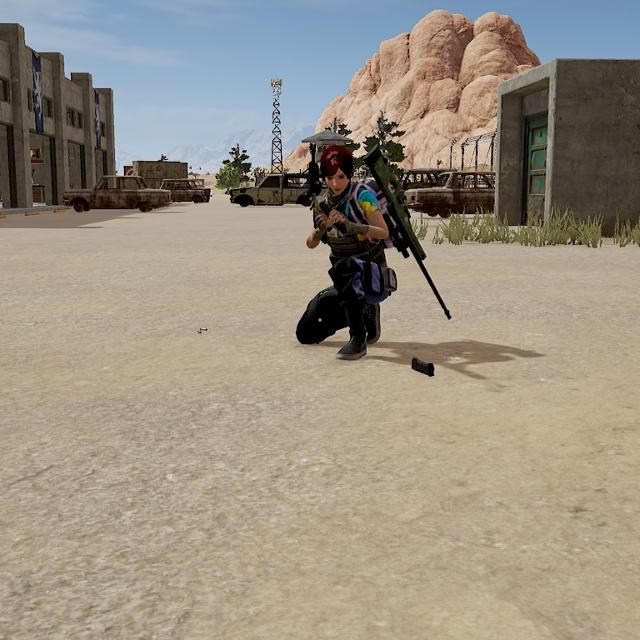head: (317, 141, 358, 196)
people: (293, 139, 401, 364)
